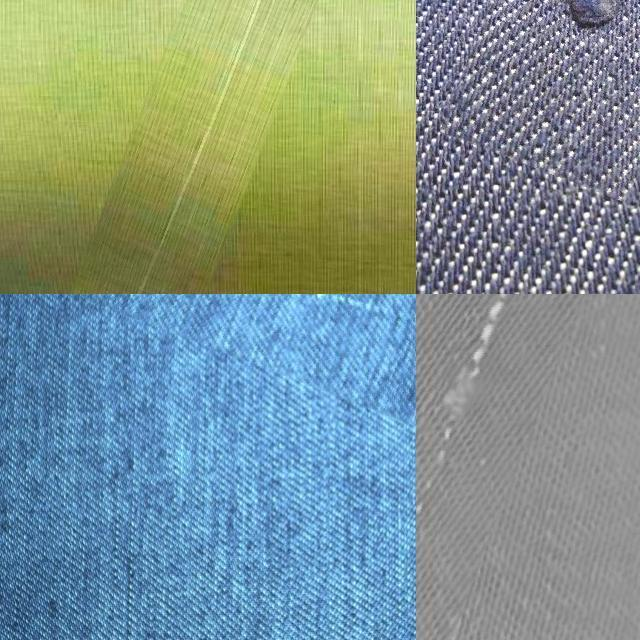Thread_other: (64, 0, 291, 294), (416, 294, 569, 640), (0, 294, 416, 397), (462, 0, 640, 190)
